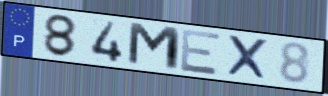4: (88, 19, 126, 65)
8: (42, 13, 79, 59), (277, 40, 313, 87)
E: (179, 27, 224, 77)
M: (125, 20, 183, 74)
X: (225, 34, 271, 83)
